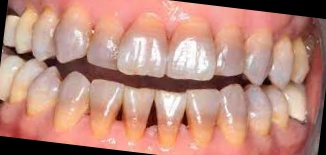Tooth Discoloration: (82, 95, 221, 155)
